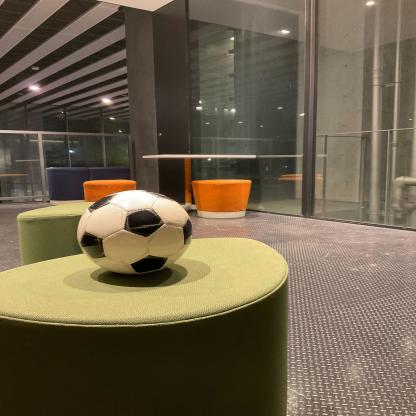ball: (79, 188, 192, 277)
